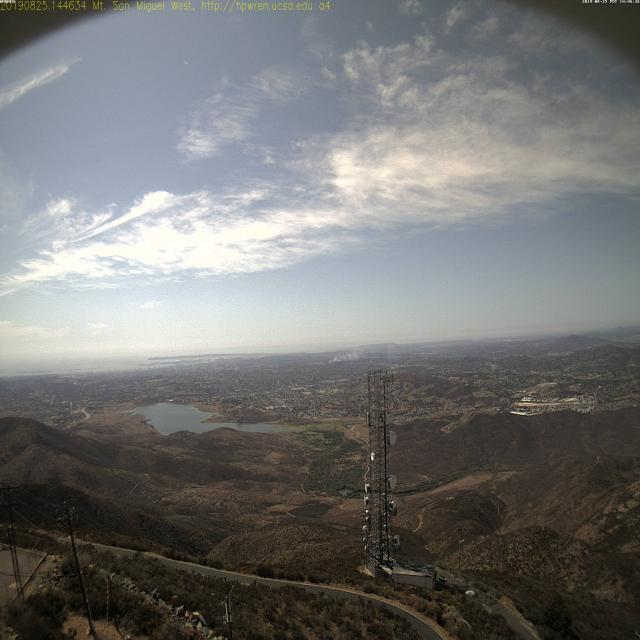smoke: (324, 348, 352, 368)
